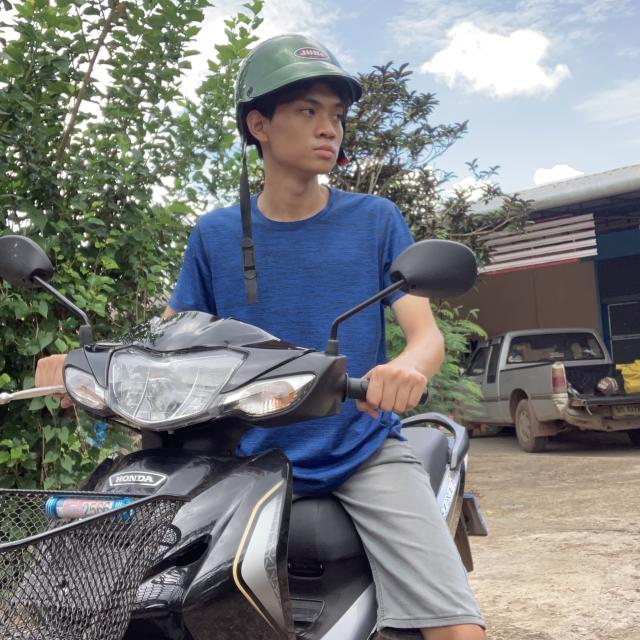illegal_helmet: (232, 25, 367, 305)
